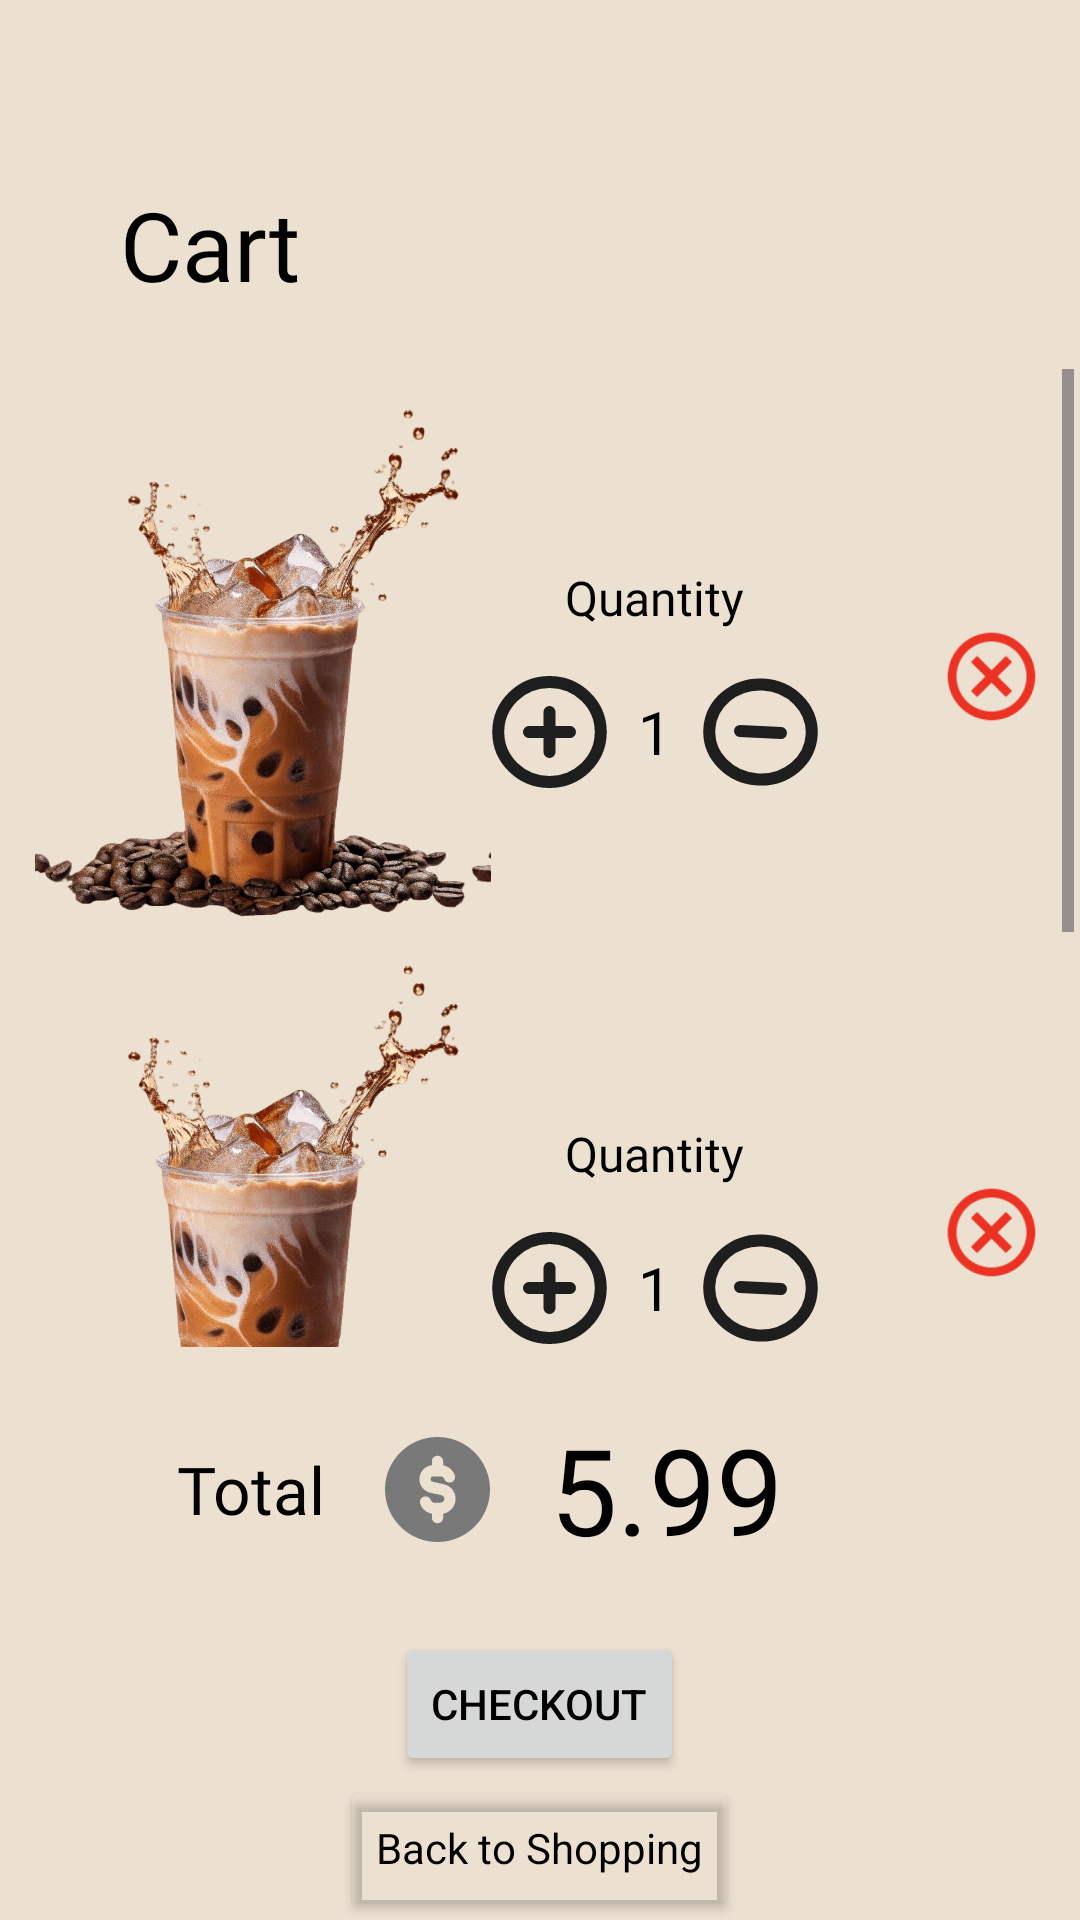

Icon bounding boxes for this 1080*1920 phone screenshot, format {"left": x1, "top": y1, "right": x2, "bottom": y2}:
add: {"left": 492, "top": 676, "right": 607, "bottom": 788}, {"left": 492, "top": 1232, "right": 607, "bottom": 1344}
cancel: {"left": 947, "top": 632, "right": 1036, "bottom": 721}, {"left": 947, "top": 1188, "right": 1036, "bottom": 1277}
dollar coin: {"left": 385, "top": 1437, "right": 490, "bottom": 1542}
minus: {"left": 703, "top": 678, "right": 818, "bottom": 786}, {"left": 703, "top": 1234, "right": 818, "bottom": 1342}
